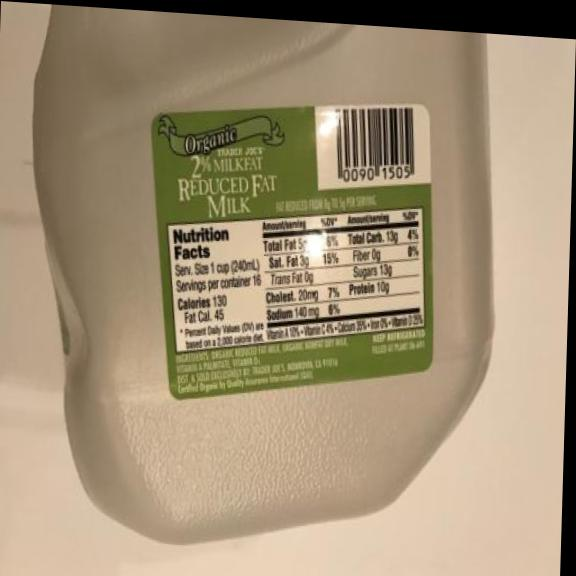Plastik: (16, 2, 514, 573)
